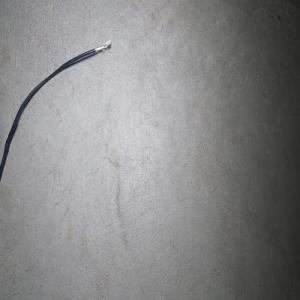Wire: (0, 39, 111, 183)
